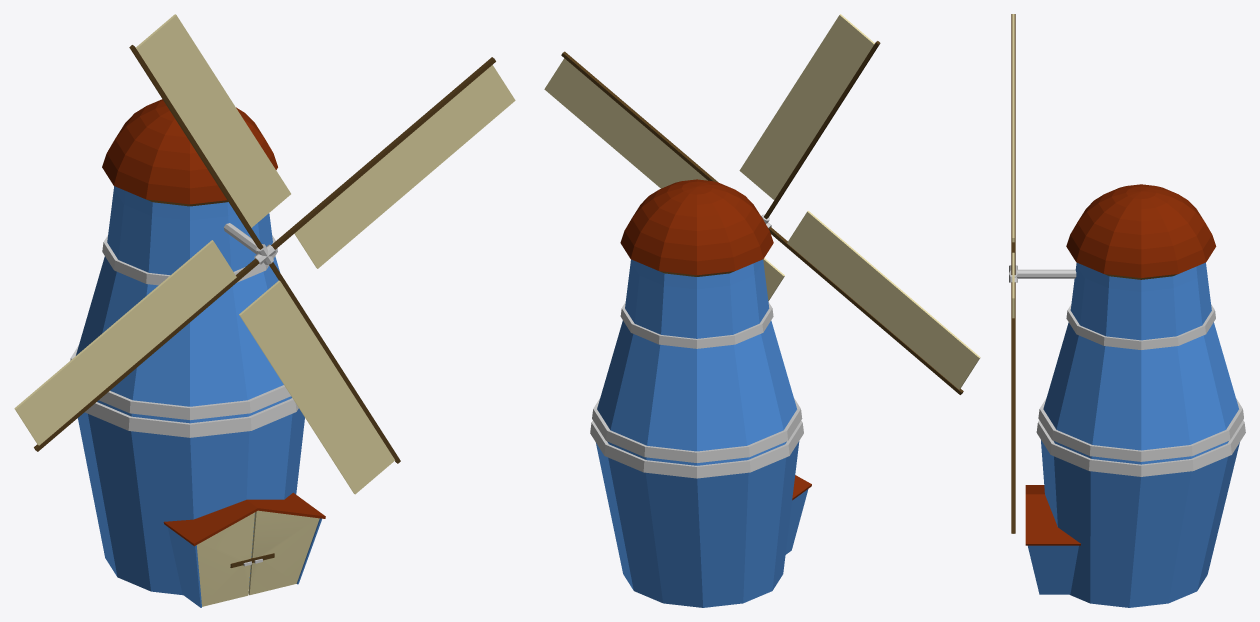
The model's file is WindMill.glb.
3 renders of one model, left to right at view 1: azimuth 30°, elevation 25°; view 2: azimuth 150°, elevation 25°; view 3: azimuth 270°, elevation 25°, orthographic. The views are drawn at different scales.
Parts seen in each view (by area): view 1: House, Fan, Shad; view 2: House, Fan, Shad; view 3: House, Shad, Fan.
Part boxes in pixels (x1,y1,x2,y2): House: (70, 99, 304, 595); Fan: (14, 14, 515, 494); Shad: (163, 492, 325, 607); House: (590, 179, 803, 607); Fan: (544, 14, 980, 394); Shad: (785, 475, 811, 554); House: (1036, 184, 1245, 607); Shad: (1025, 485, 1080, 594); Fan: (1009, 14, 1076, 533).
Size of the model in its own units: 53.92 by 63.38 by 25.98.
